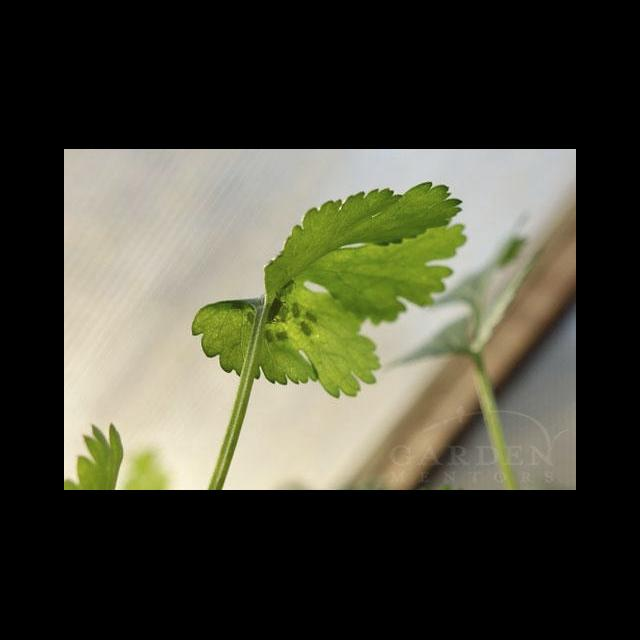cilantro: (188, 180, 468, 490)
